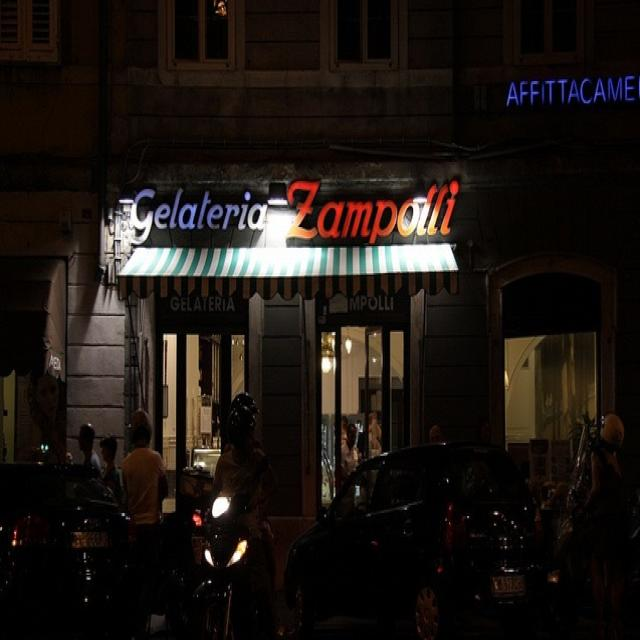Motorbike: (175, 461, 327, 640)
People: (118, 399, 189, 594), (213, 356, 276, 561), (604, 383, 640, 542), (99, 411, 126, 538), (78, 408, 102, 529), (336, 404, 362, 461)
car: (273, 393, 557, 640)
